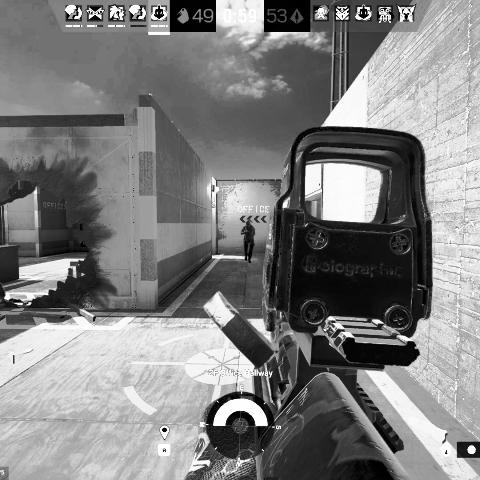Character: (241, 220, 257, 264)
Head: (246, 222, 252, 228)
